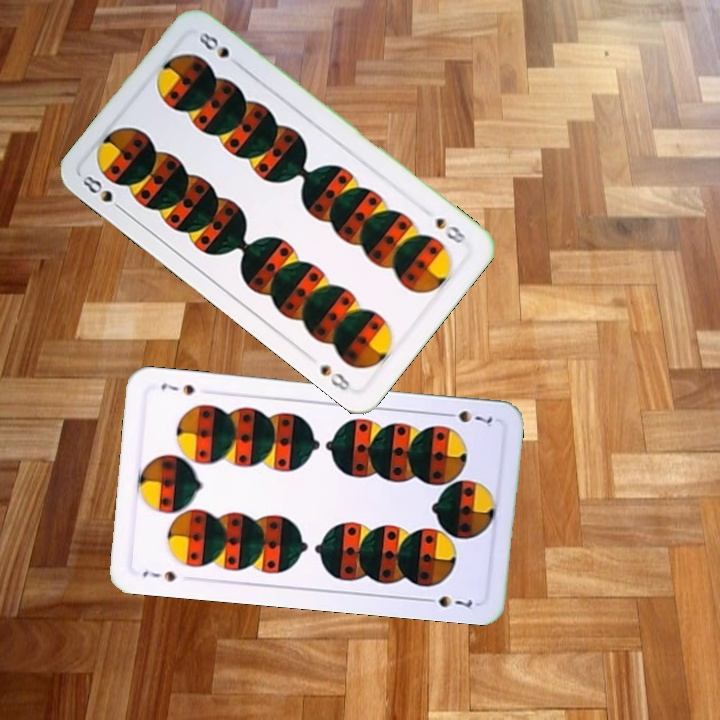S7: (439, 406, 495, 430), (139, 566, 178, 585)
S8: (78, 171, 128, 215), (431, 213, 469, 247)
